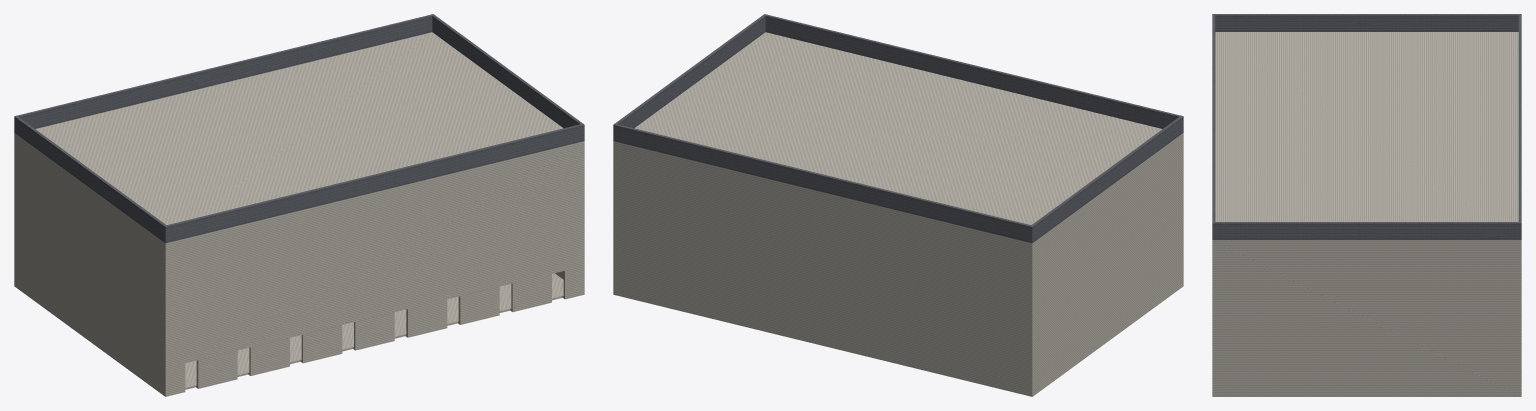
The model's file is apartment_large.glb.
The picture shows the model from 3 angles, left to right: view 1: azimuth 30°, elevation 25°; view 2: azimuth 150°, elevation 25°; view 3: azimuth 270°, elevation 25°; orthographic projection. The views are drawn at different scales.
Parts seen in each view (by area): view 1: apartment_large-col; view 2: apartment_large-col; view 3: apartment_large-col.
Part boxes in pixels (x1,y1,x2,y2): apartment_large-col: [14, 14, 584, 396]; apartment_large-col: [613, 14, 1183, 396]; apartment_large-col: [1212, 14, 1521, 396].
Size of the model in its own units: 32 by 12.4 by 20.
Materials: 2 (2 with a texture image).
